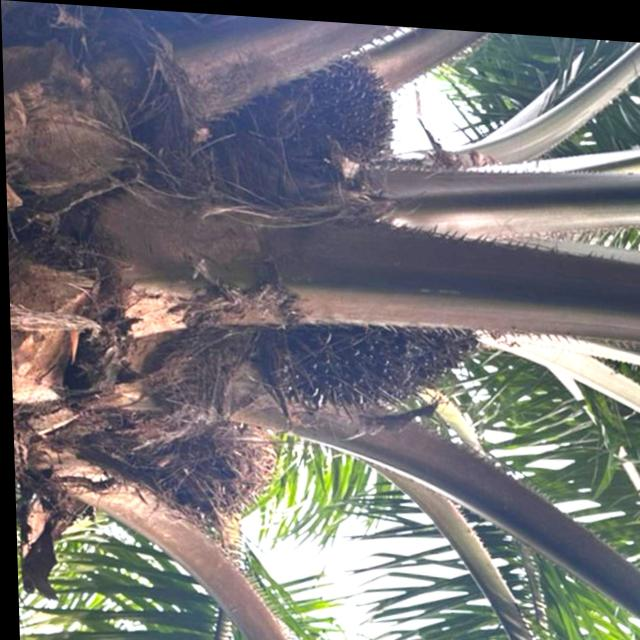almost: (248, 285, 489, 437), (227, 48, 401, 195), (131, 396, 278, 538)
